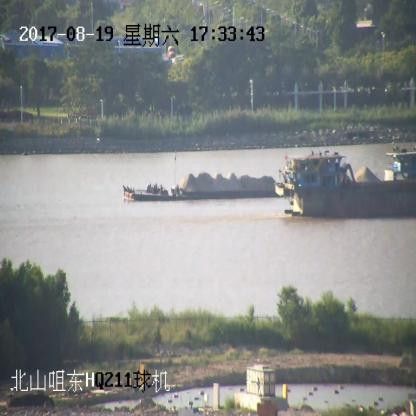Bulk Carrier: (276, 155, 415, 219)
